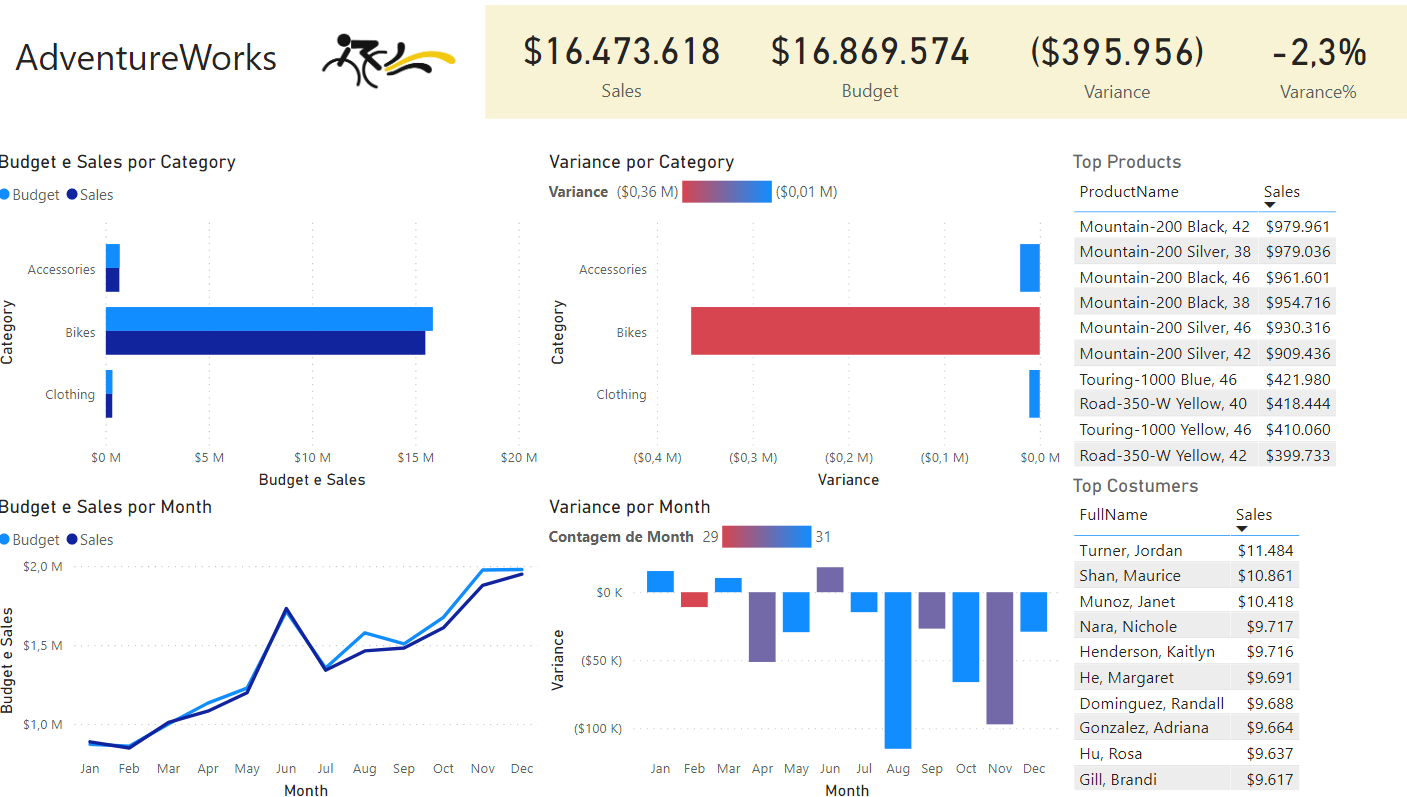

The dashboard page shown, as its layout file describes it:
{"tool":"powerbi","page":{"name":"Page 1","canvas":[1280,720],"ordinal":0},"visuals":[{"type":"basicShape","box":[432.7,3.6,847.3,104.2],"z":0},{"type":"textbox","box":[15.8,23,280,61.8],"z":1000},{"type":"image","box":[283.6,7.3,137,94.5],"z":2000},{"type":"card","fields":{"Values":["Budget.Budget"]},"box":[686.1,0,197.6,106.7],"z":3000},{"type":"card","fields":{"Values":["Budget.Variance"]},"box":[895.8,1.2,221.8,106.7],"z":4000},{"type":"card","fields":{"Values":["Sales.Sales"]},"box":[459.4,0,207.3,106.7],"z":5000},{"type":"card","fields":{"Values":["Budget.Varance%"]},"box":[1092.1,1.2,187.9,106.7],"z":6000},{"type":"clusteredBarChart","fields":{"Y":["Budget.Budget","Sales.Sales"],"Category":["Product.Category","Product.SubCategory"]},"box":[0,134.5,493.3,307.9],"z":7000},{"type":"clusteredBarChart","fields":{"Category":["Product.Category","Product.SubCategory"],"Y":["Budget.Variance"]},"box":[493.3,134.5,467.9,307.9],"z":8000},{"type":"lineChart","fields":{"Y":["Budget.Budget","Sales.Sales"],"Category":["Calendar.Month"]},"box":[0,442.4,493.3,277.6],"z":9000},{"type":"clusteredColumnChart","fields":{"Category":["Calendar.Month"],"Y":["Budget.Variance"]},"box":[493.3,442.4,467.9,277.6],"z":10000},{"type":"tableEx","title":"Top Products","fields":{"Values":["Product.ProductName","Sales.Sales"]},"box":[961.2,134.5,318.8,289.7],"z":11000},{"type":"tableEx","title":"Top Costumers","fields":{"Values":["Customer.FullName","Sales.Sales"]},"box":[961.2,424.2,318.8,295.8],"z":12000}]}

Visuals, with their boxes in screenshot pixels (x1, y1, x2, y2), scaled from the page's 1280x720 canvas onto the 1407x797 screenshot:
basicShape: detection(476, 4, 1406, 119)
textbox: detection(17, 25, 325, 94)
image: detection(312, 8, 462, 113)
card - Budget.Budget: detection(754, 0, 971, 118)
card - Budget.Variance: detection(985, 1, 1228, 119)
card - Sales.Sales: detection(505, 0, 733, 118)
card - Budget.Varance%: detection(1200, 1, 1406, 119)
clusteredBarChart - Budget.Budget x Sales.Sales: detection(0, 149, 542, 490)
clusteredBarChart - Product.Category x Product.SubCategory: detection(542, 149, 1057, 490)
lineChart - Budget.Budget x Sales.Sales: detection(0, 490, 542, 796)
clusteredColumnChart - Calendar.Month x Budget.Variance: detection(542, 490, 1057, 796)
"Top Products" tableEx: detection(1057, 149, 1406, 470)
"Top Costumers" tableEx: detection(1057, 470, 1406, 796)
